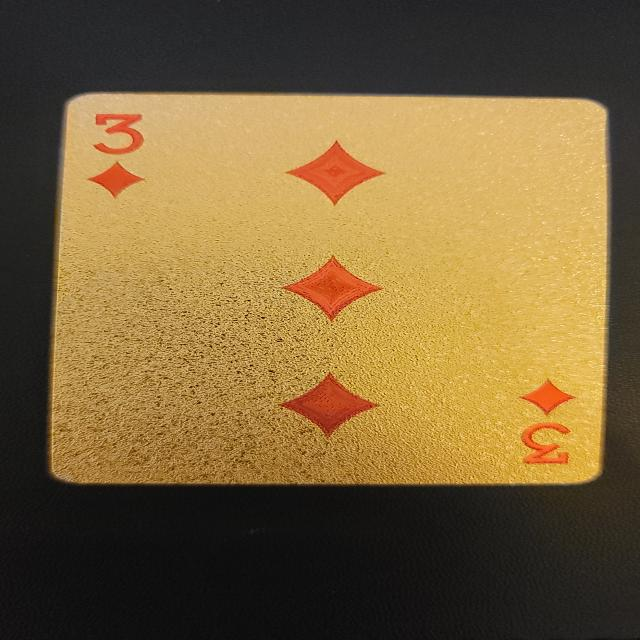3 of diamonds: (48, 92, 605, 484)
